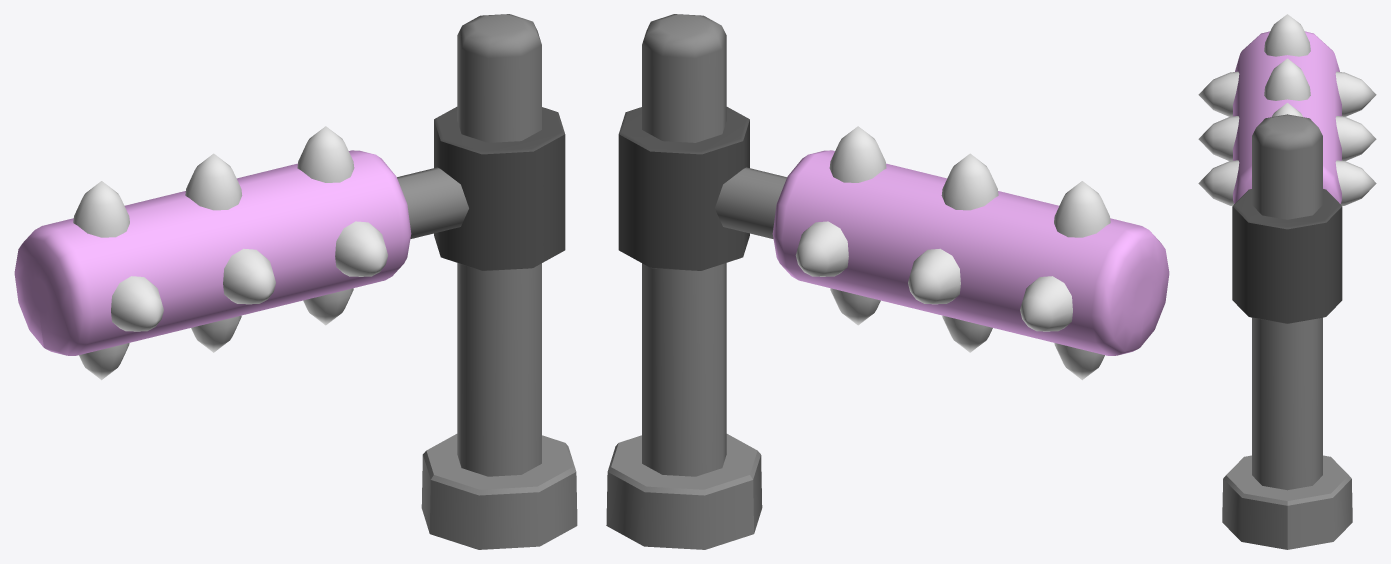
File: Obstacle_5.fbx
3 renders of one model, left to right at view 1: azimuth 30°, elevation 25°; view 2: azimuth 150°, elevation 25°; view 3: azimuth 270°, elevation 25°, orthographic. The views are drawn at different scales.
Visible parts, largest first — view 1: Quay, Truc; view 2: Quay, Truc; view 3: Quay, Truc.
Boxes of the visible parts, bbox=[...] form: Quay: bbox=[14, 107, 565, 380]; Truc: bbox=[421, 14, 577, 549]; Quay: bbox=[618, 107, 1169, 380]; Truc: bbox=[606, 14, 762, 549]; Quay: bbox=[1198, 14, 1376, 323]; Truc: bbox=[1222, 114, 1352, 549].
Size of the model in its own units: 2.02 by 1.79 by 0.7274.
